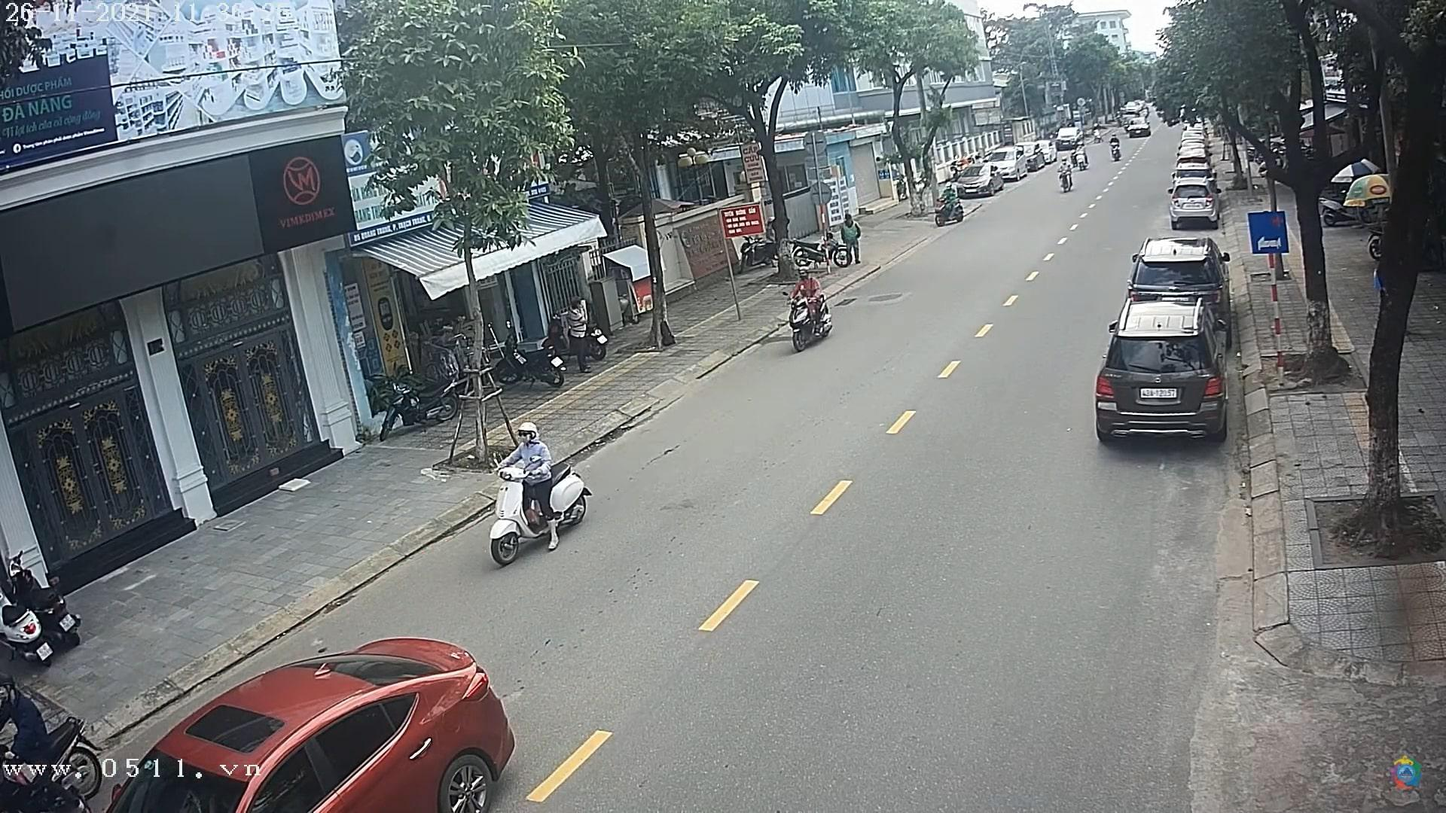car: (1096, 298, 1227, 447), (1132, 236, 1229, 307), (1166, 185, 1219, 229), (956, 161, 1009, 197), (1167, 163, 1215, 189), (1170, 160, 1212, 180), (1057, 126, 1086, 149)
motorbike: (488, 456, 602, 562), (788, 296, 831, 354)
